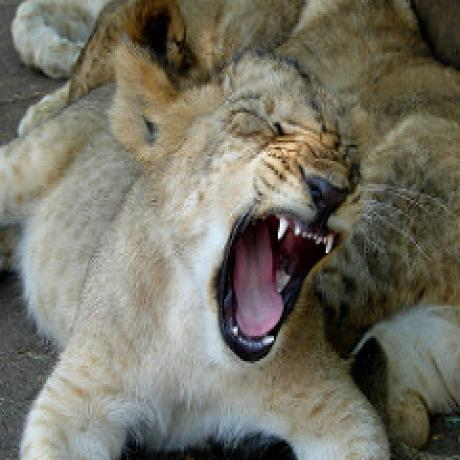Lion: (0, 43, 385, 460)
